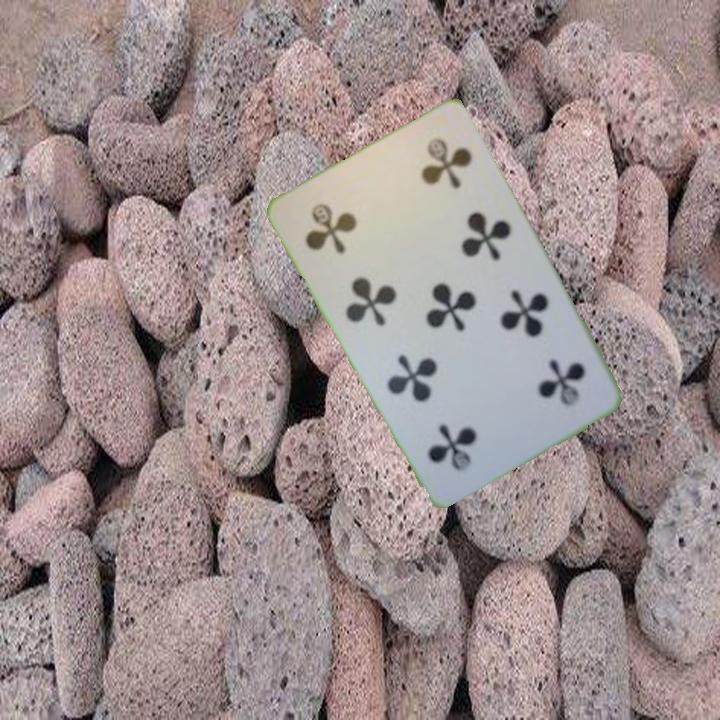c_9.png: (481, 323, 608, 445), (283, 164, 410, 286)
